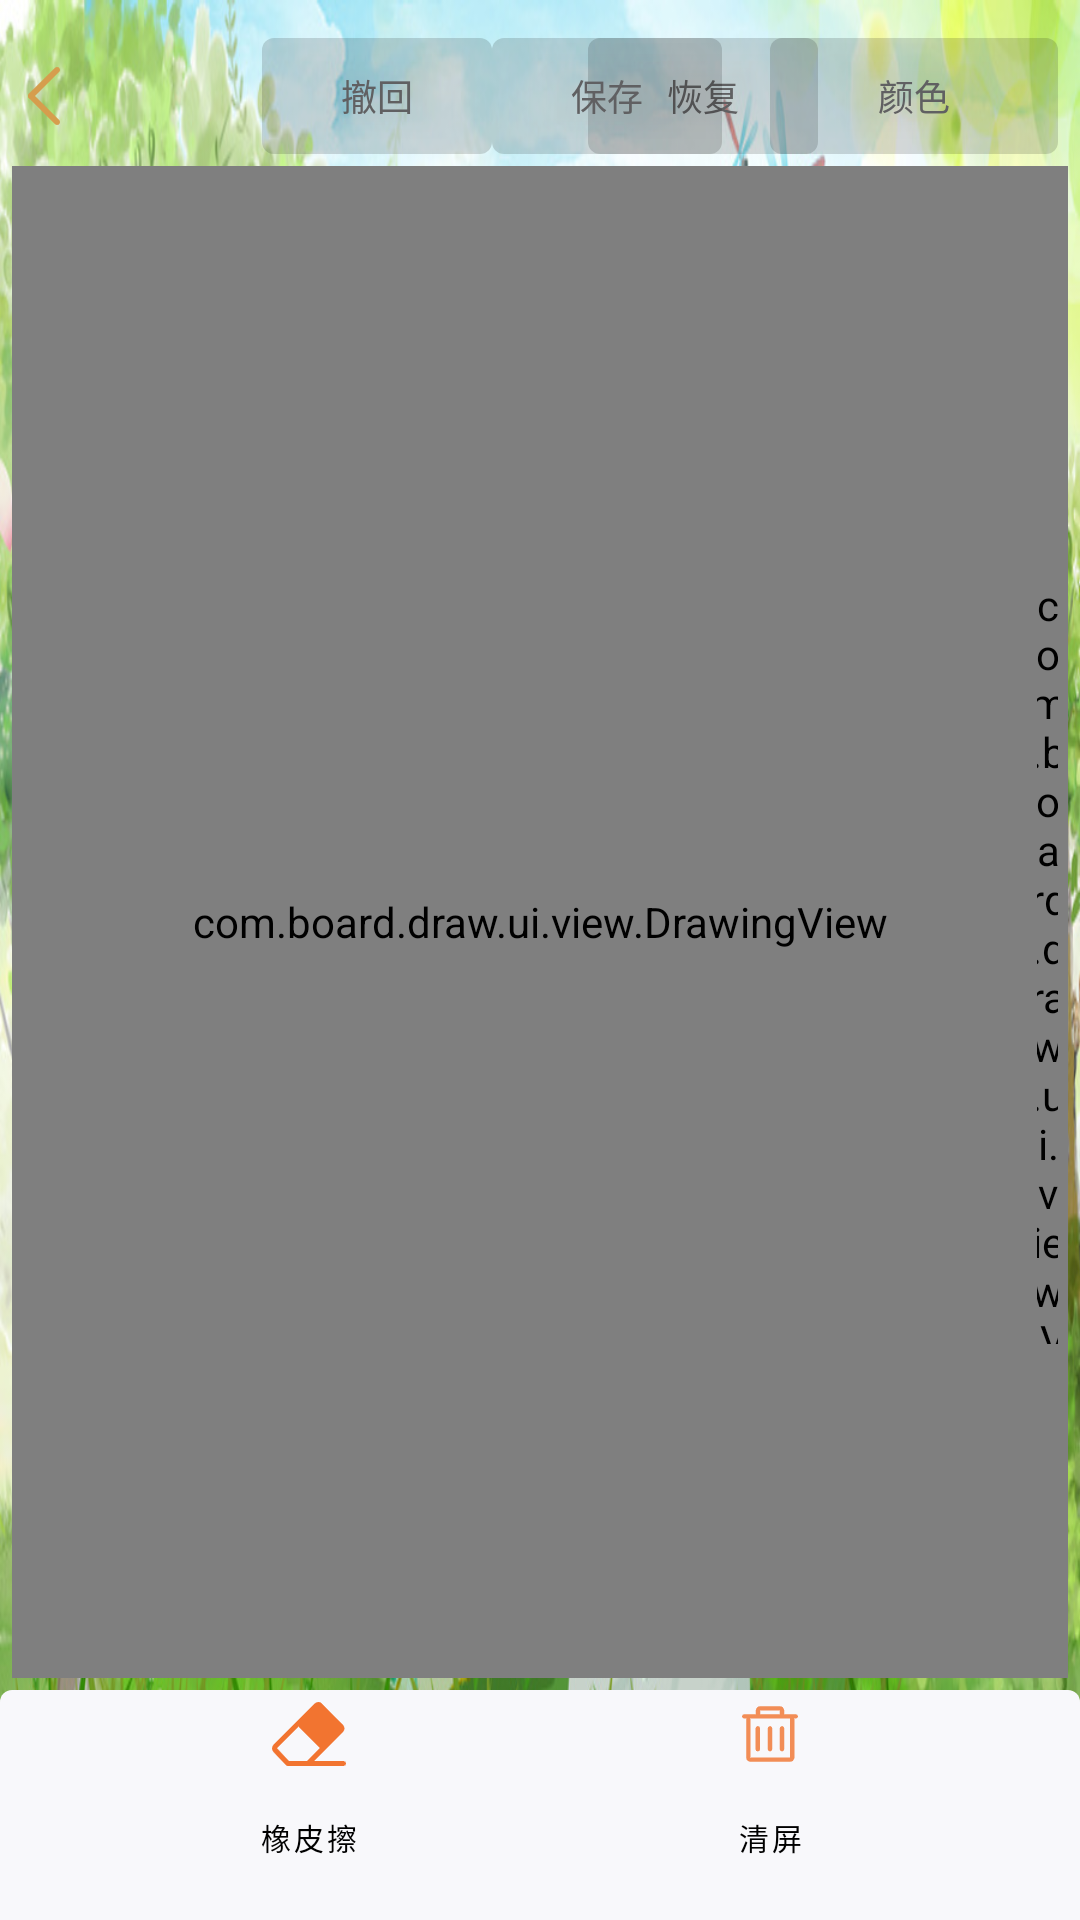

Icons on this 1080 × 1920 Android screen, each with the point to tap as [x,y]:
back: [44,96]
